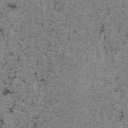oxide scale of temperature system: (0, 38, 46, 128), (99, 24, 106, 50), (40, 22, 55, 32), (66, 30, 77, 40), (117, 109, 124, 122), (6, 2, 18, 9), (0, 28, 4, 36), (124, 34, 128, 40), (115, 76, 119, 80), (114, 89, 118, 93)
